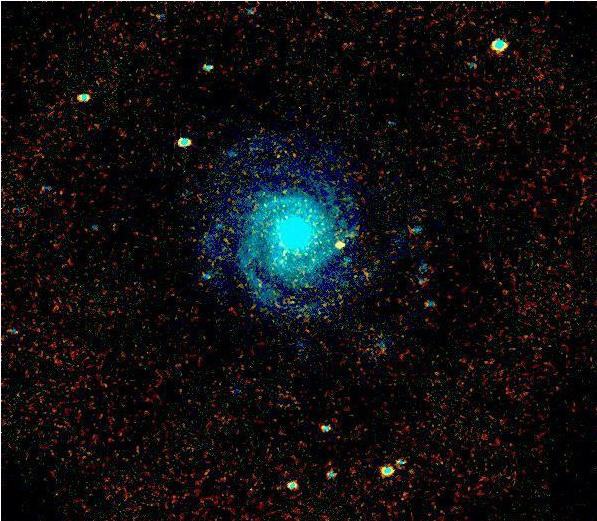star: (324, 232, 354, 262)
